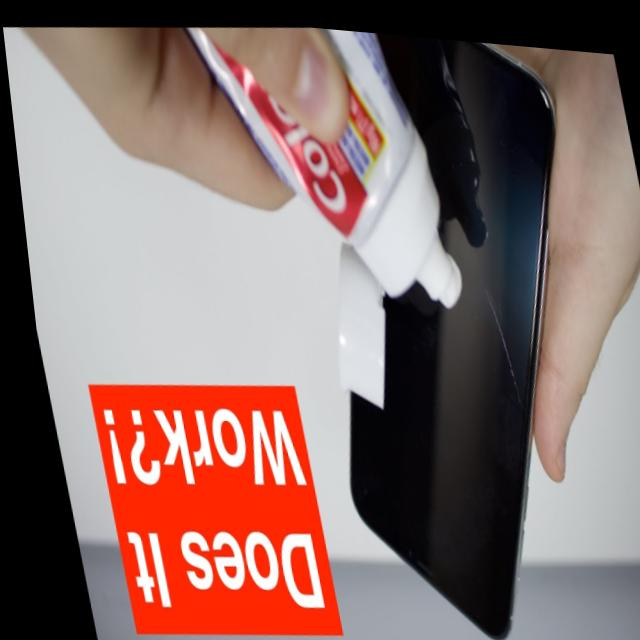scratch: (470, 273, 518, 401)
